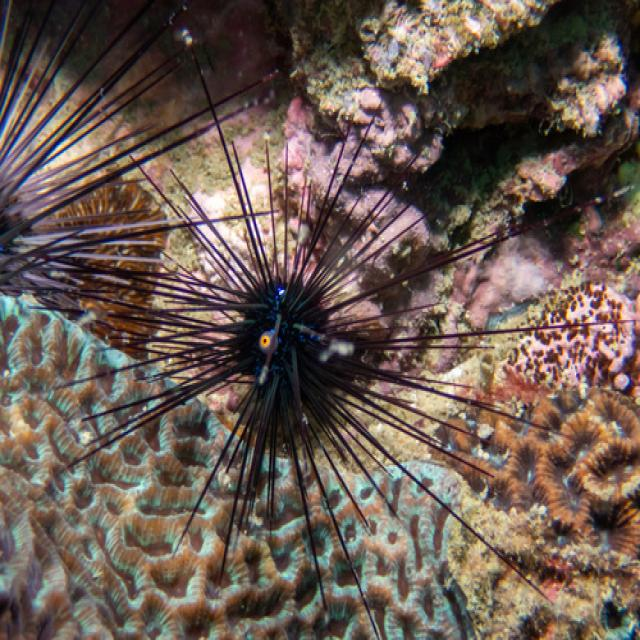Urchin: (64, 107, 617, 618)
